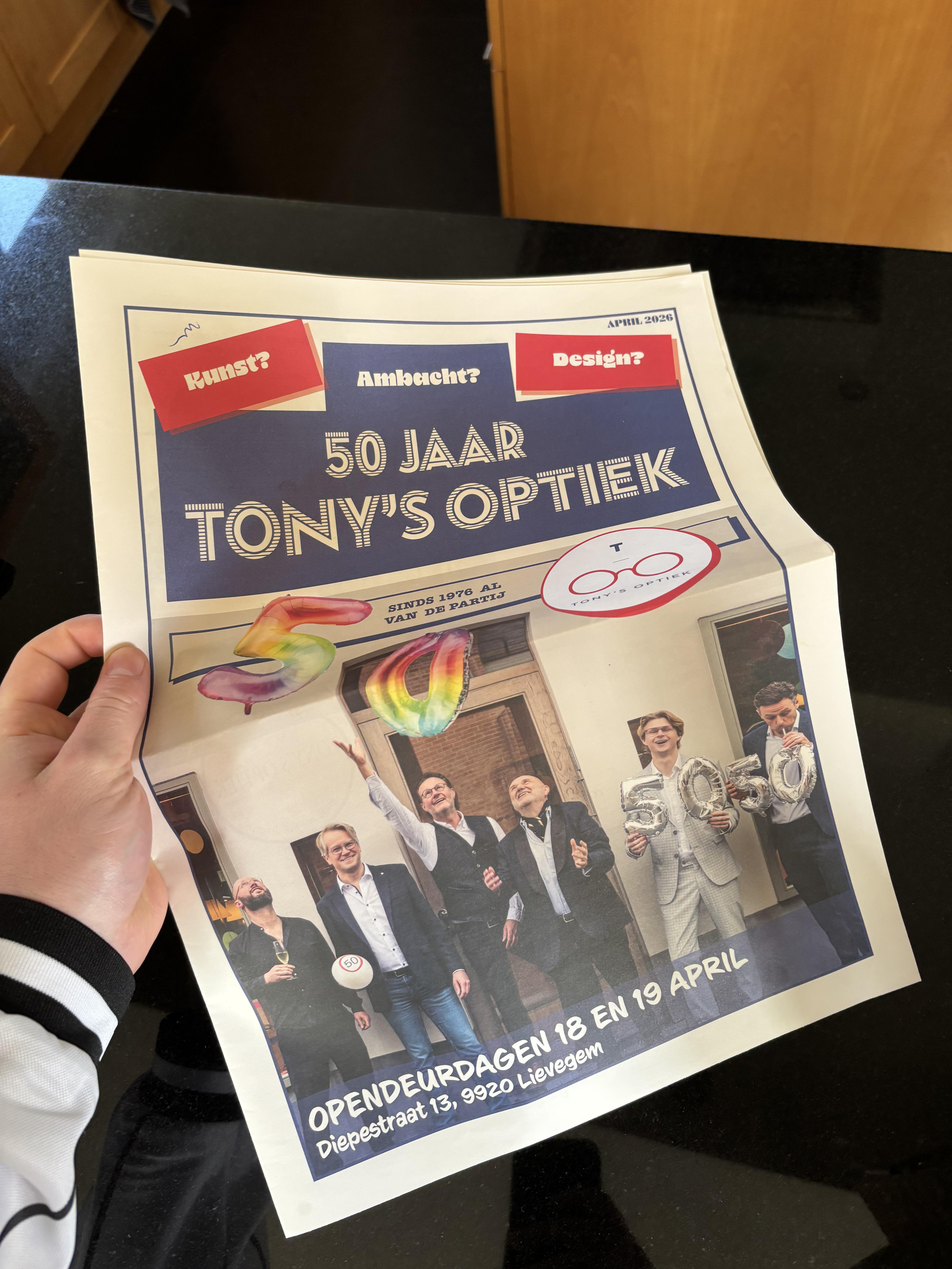Paper: (53, 240, 929, 1242)
